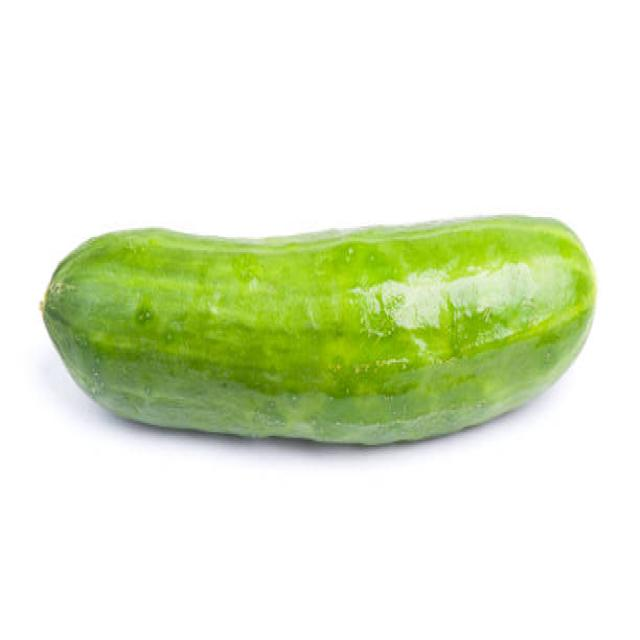cucumber: (44, 213, 596, 447)
